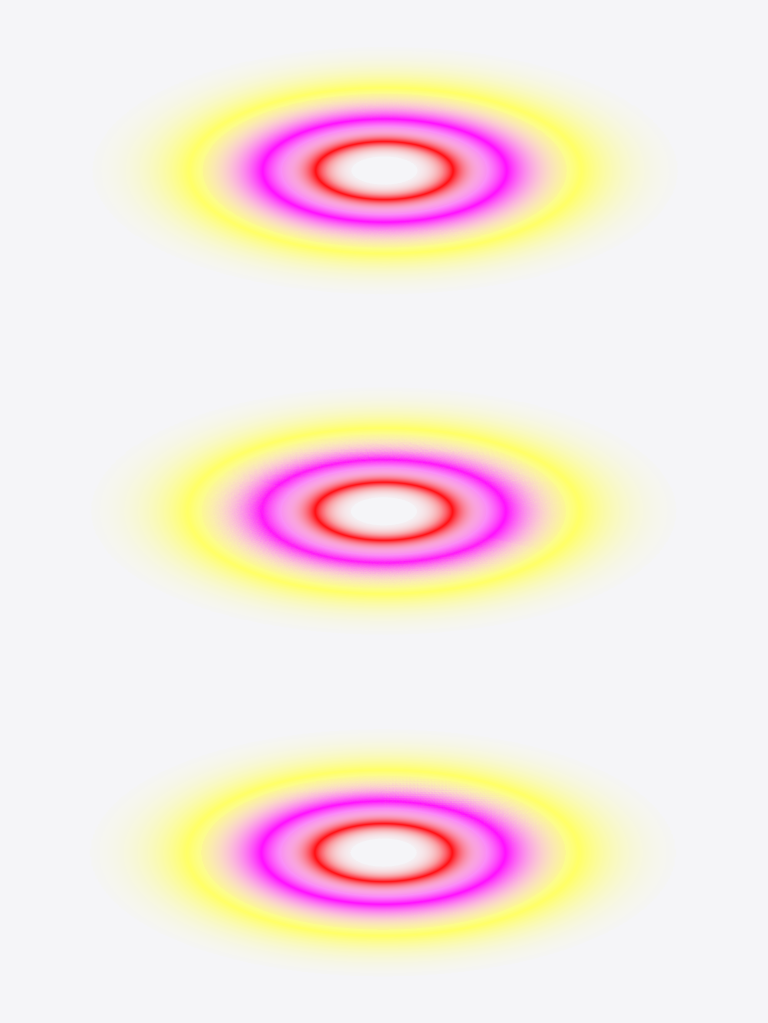
3 views of the same model, one above another, from view 1: azimuth 30°, elevation 25°; view 2: azimuth 150°, elevation 25°; view 3: azimuth 270°, elevation 25° (orthographic).
Visible parts, largest first — view 1: qq.011, qq.012, qq.010; view 2: qq.011, qq.012, qq.010; view 3: qq.011, qq.012, qq.010.
Boxes of the visible parts, <box> form: qq.011: <box>126,61,644,279</box>; qq.012: <box>223,102,545,238</box>; qq.010: <box>294,132,474,208</box>; qq.011: <box>124,401,642,620</box>; qq.012: <box>224,444,544,578</box>; qq.010: <box>293,473,474,549</box>; qq.011: <box>124,743,642,961</box>; qq.012: <box>222,785,544,920</box>; qq.010: <box>293,814,473,890</box>.
Bounding box in the file's own units: 6.79 × 2.02e-07 × 6.79.
Materials: 3 (3 with a texture image).
